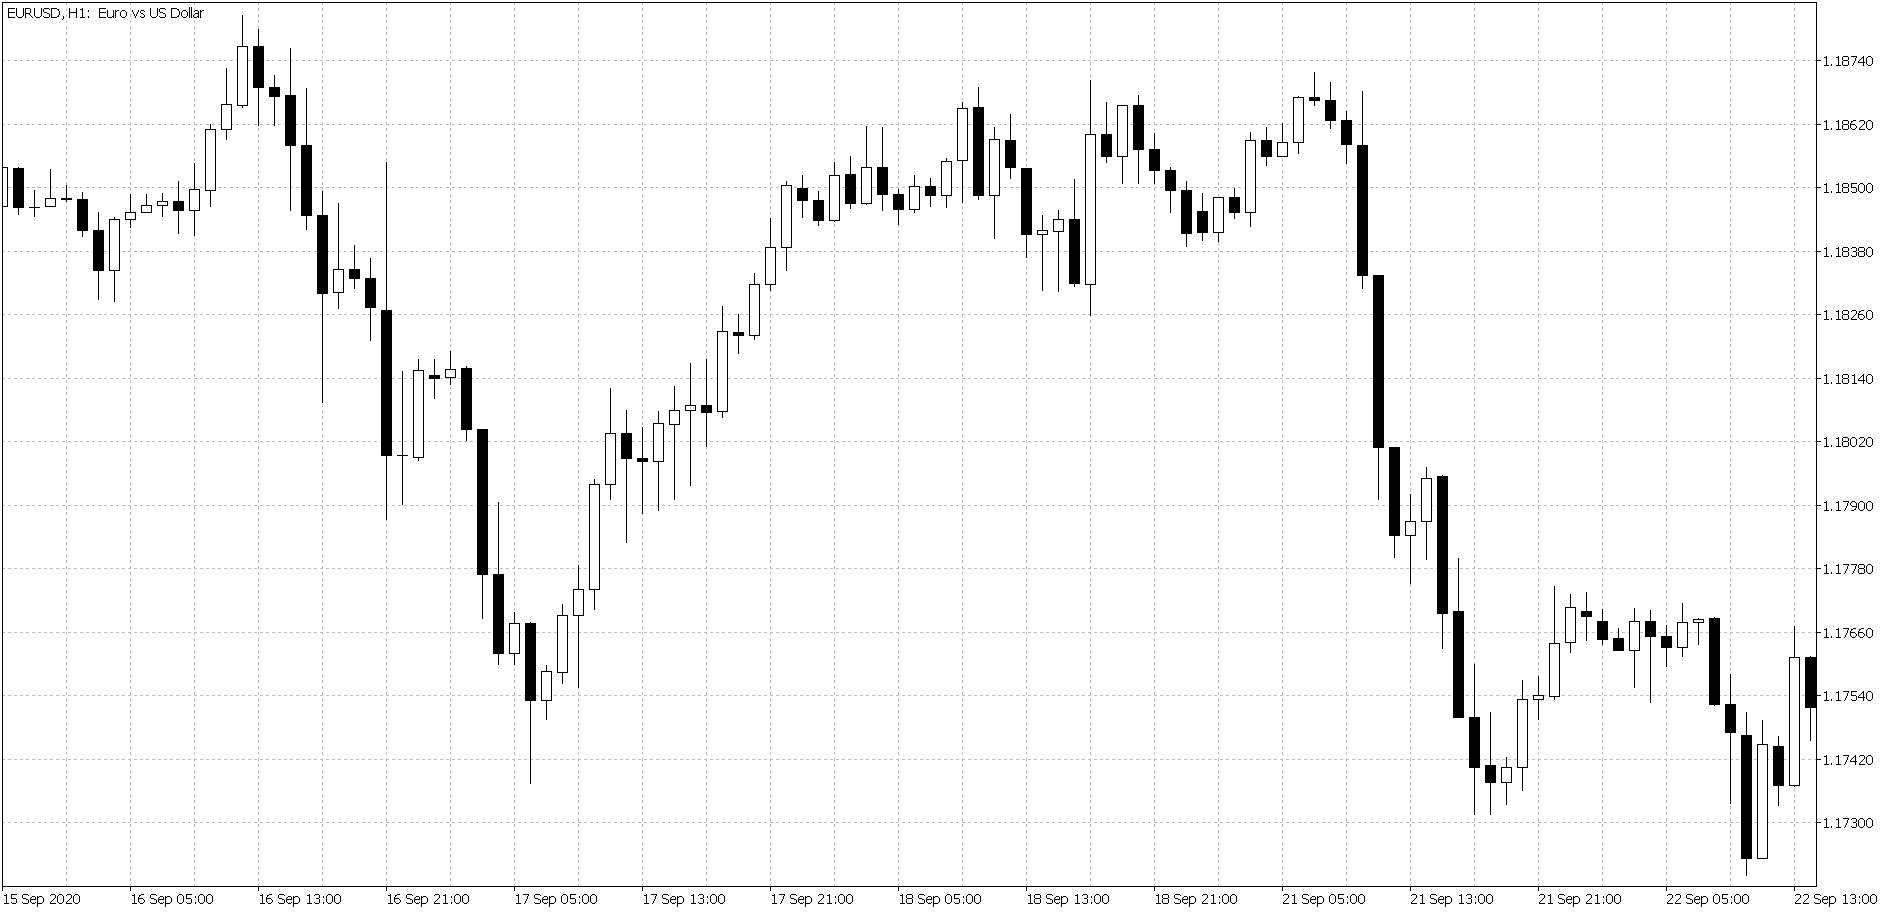3blackcrows: (280, 46, 331, 325)
bullishEngulfing: (91, 207, 123, 297)
tripleTops: (949, 64, 1377, 293)
